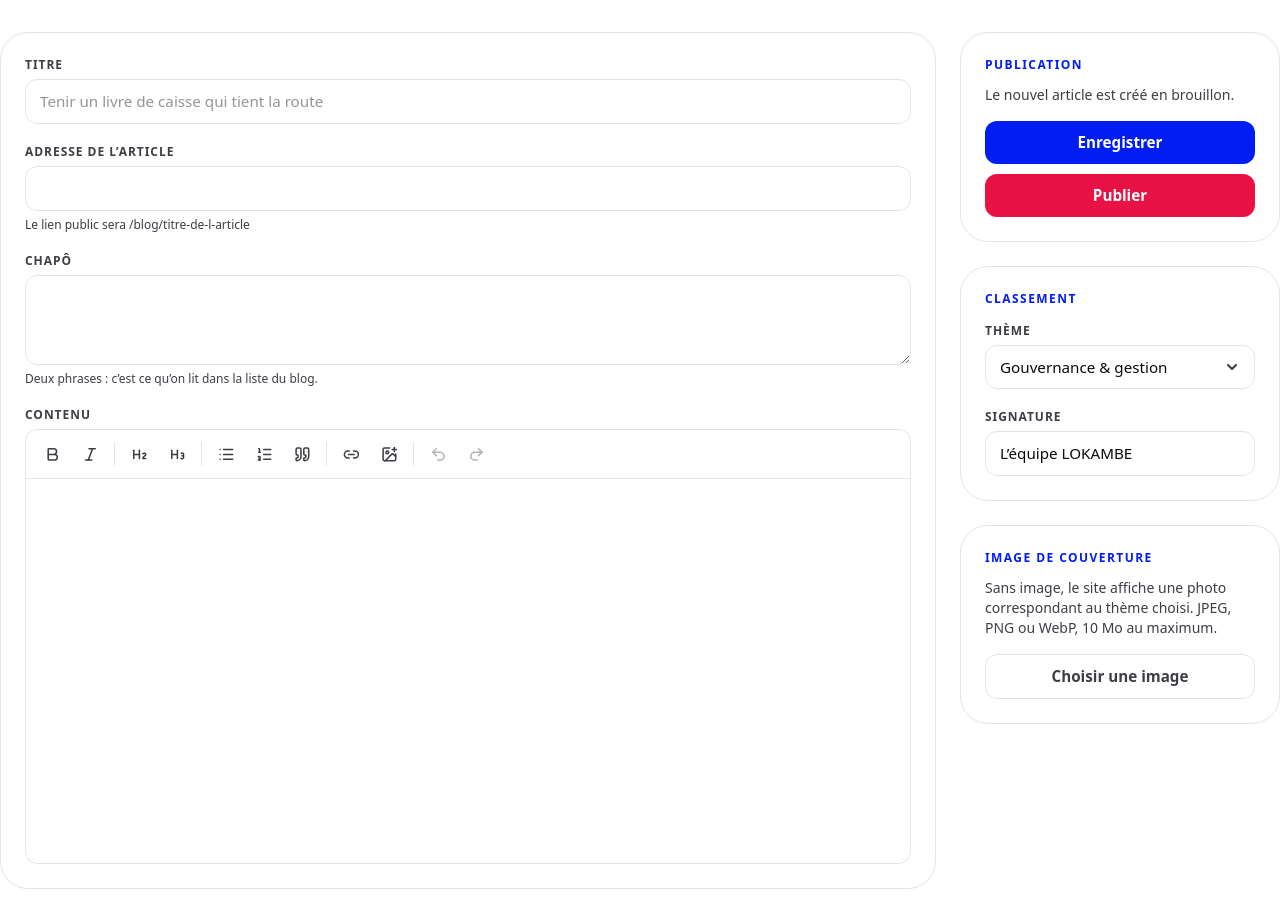
Test: ArticleForm › exige un chapô puis un contenu avant de créer
Type "Un titre correct" into the field labelled "Titre".
click(468, 101); type("Un titre correct")  # box [25,79,911,124]
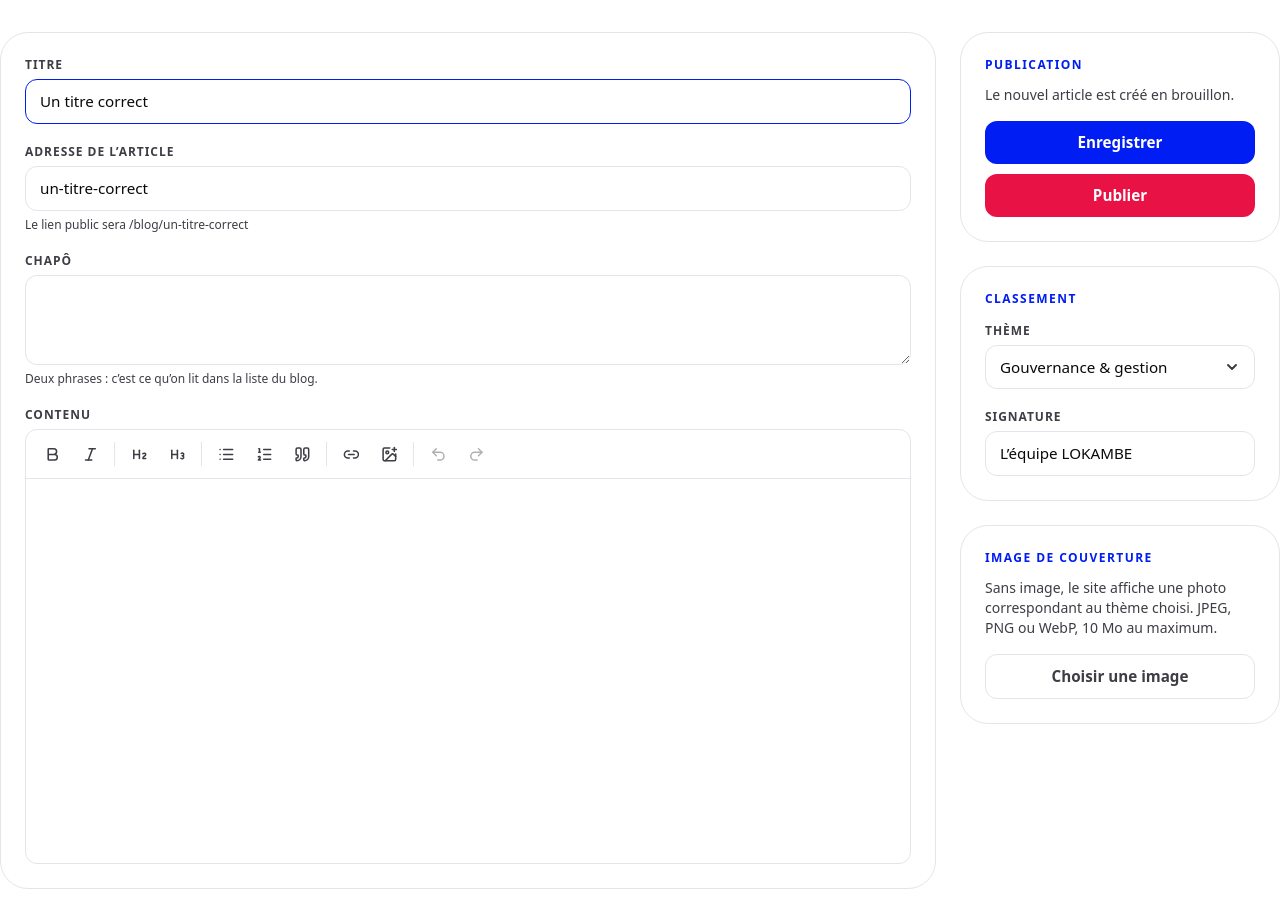
Click the button "Enregistrer".
click(1120, 142)  # box [985,121,1255,164]
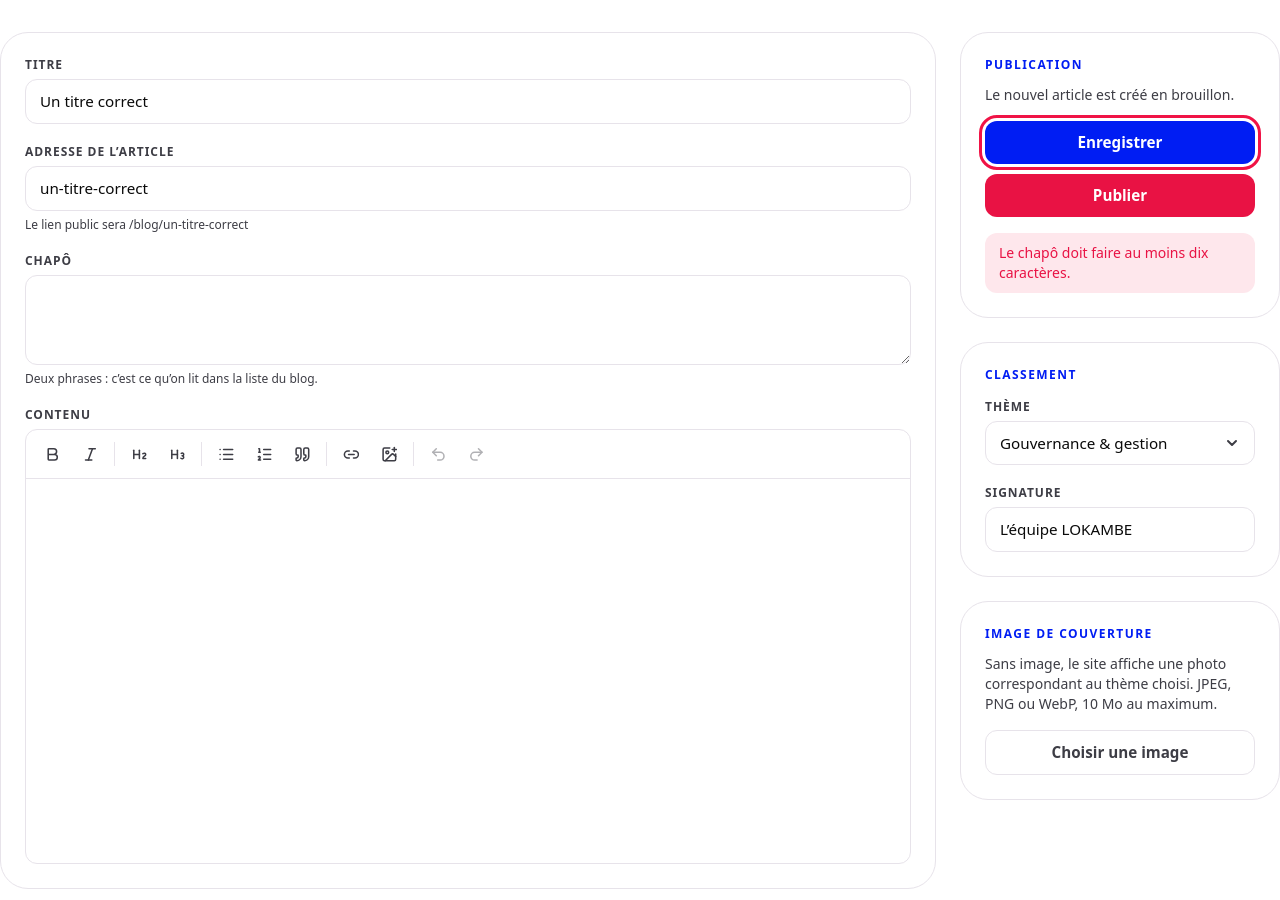
Now the message shows "chapô", box [999,243,1208,282]
Type "Deux phrases qui donnent envie de lire." into the text box labelled "Chapô".
click(468, 320); type("Deux phrases qui donnent envie de lire.")  # box [25,275,911,365]
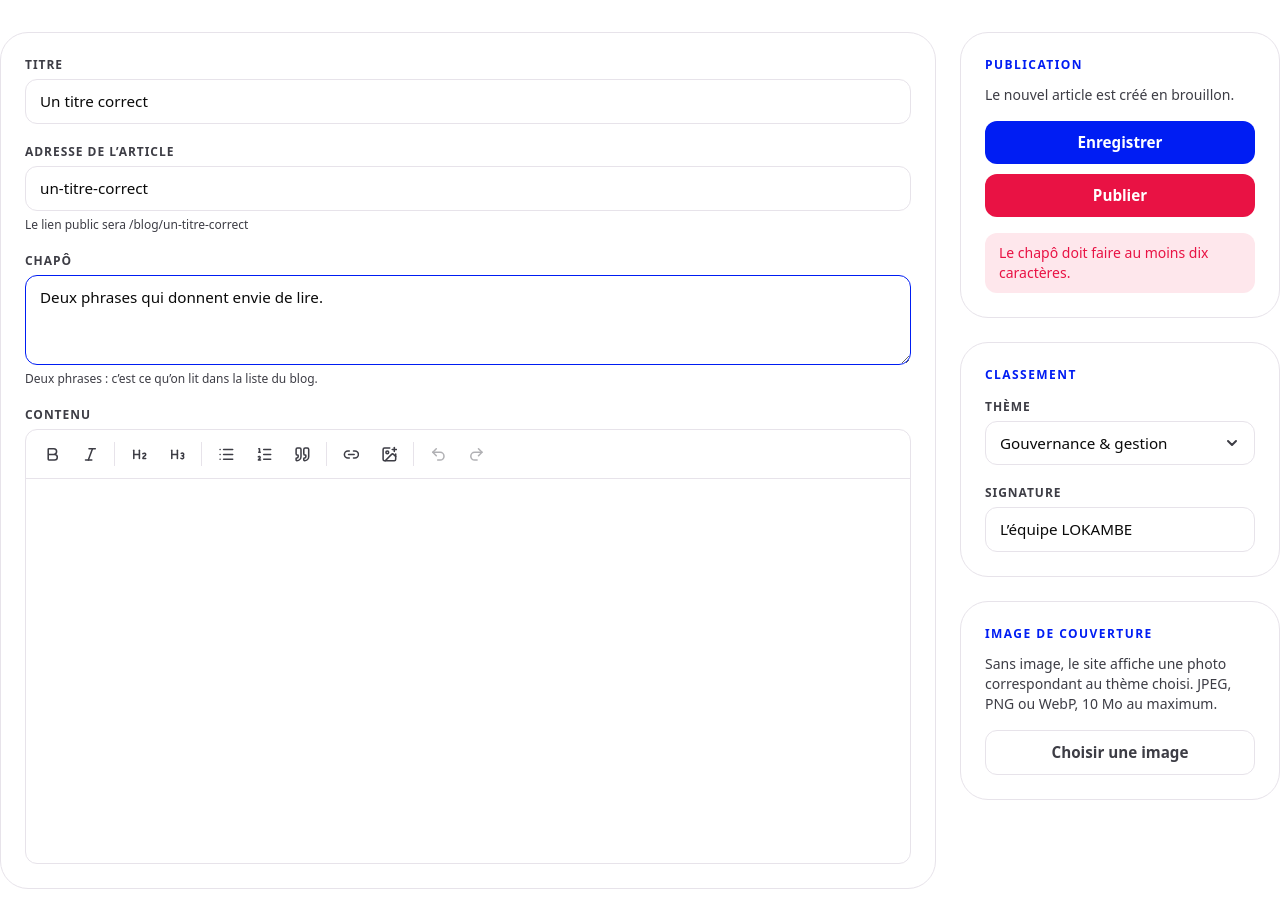
Click the button "Enregistrer".
click(1120, 142)  # box [985,121,1255,164]
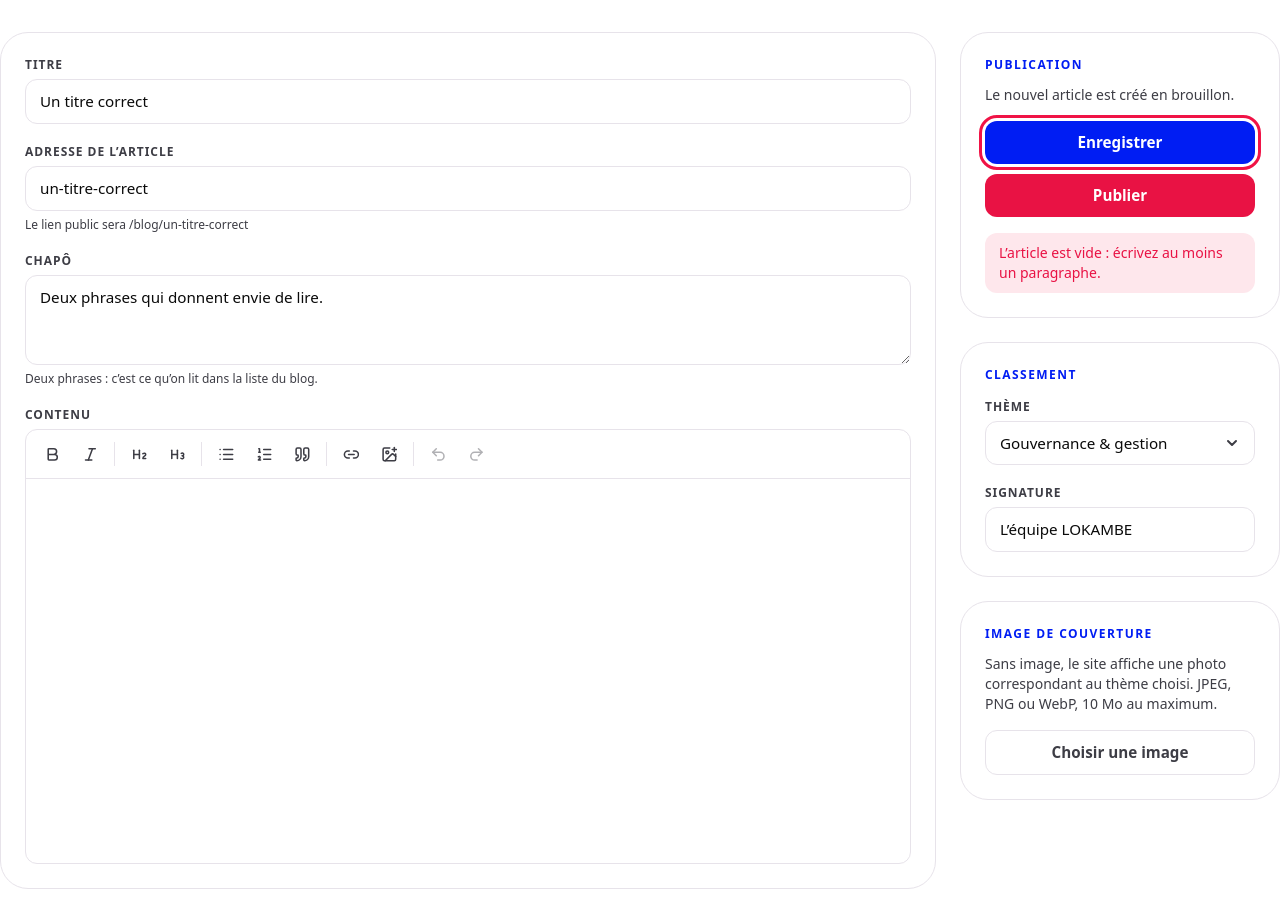
Now the message shows "vide", box [999,243,1223,282]
